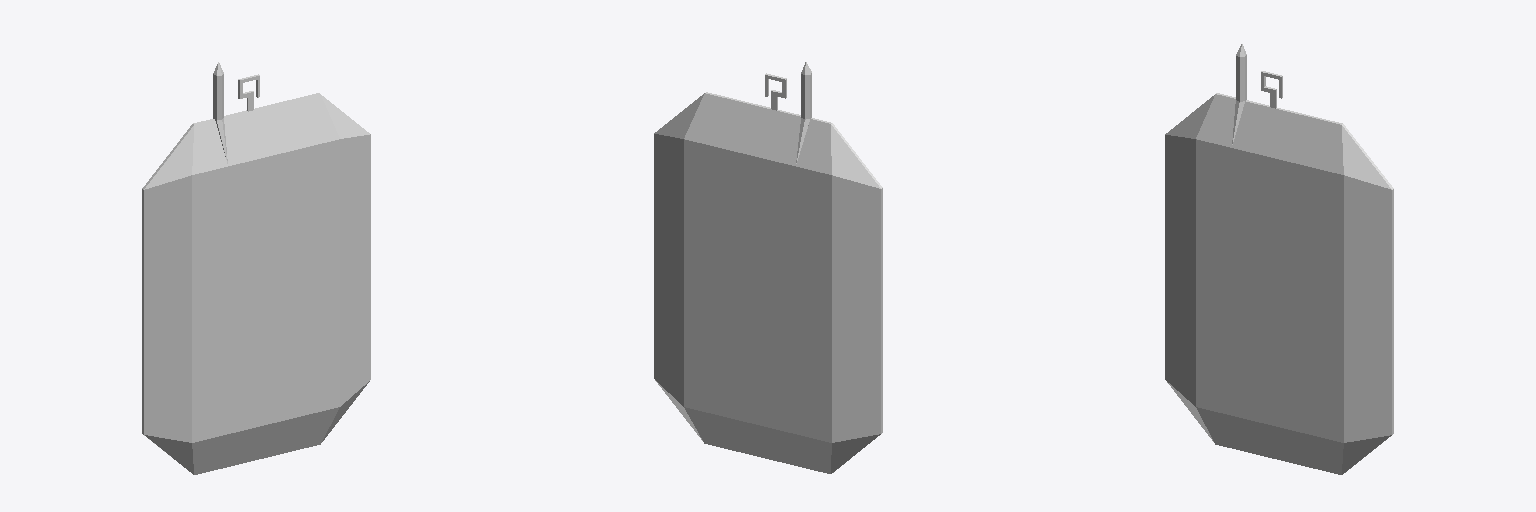
The model's file is GasSac.obj.
3 views of the same model, side by side, from view 1: azimuth 30°, elevation 25°; view 2: azimuth 150°, elevation 25°; view 3: azimuth 330°, elevation 25° (orthographic).
Parts seen in each view (by area): view 1: Mesh1 Model; view 2: Mesh1 Model; view 3: Mesh1 Model.
Part boxes in pixels (left/top/right/bottom): Mesh1 Model: left=142, top=62, right=370, bottom=474; Mesh1 Model: left=654, top=62, right=882, bottom=473; Mesh1 Model: left=1165, top=44, right=1393, bottom=474.
Bounding box in the file's own units: 0.1765 × 0.3014 × 0.0274.